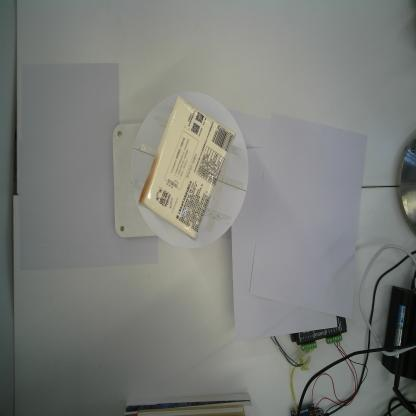Tissue: (136, 93, 237, 242)
